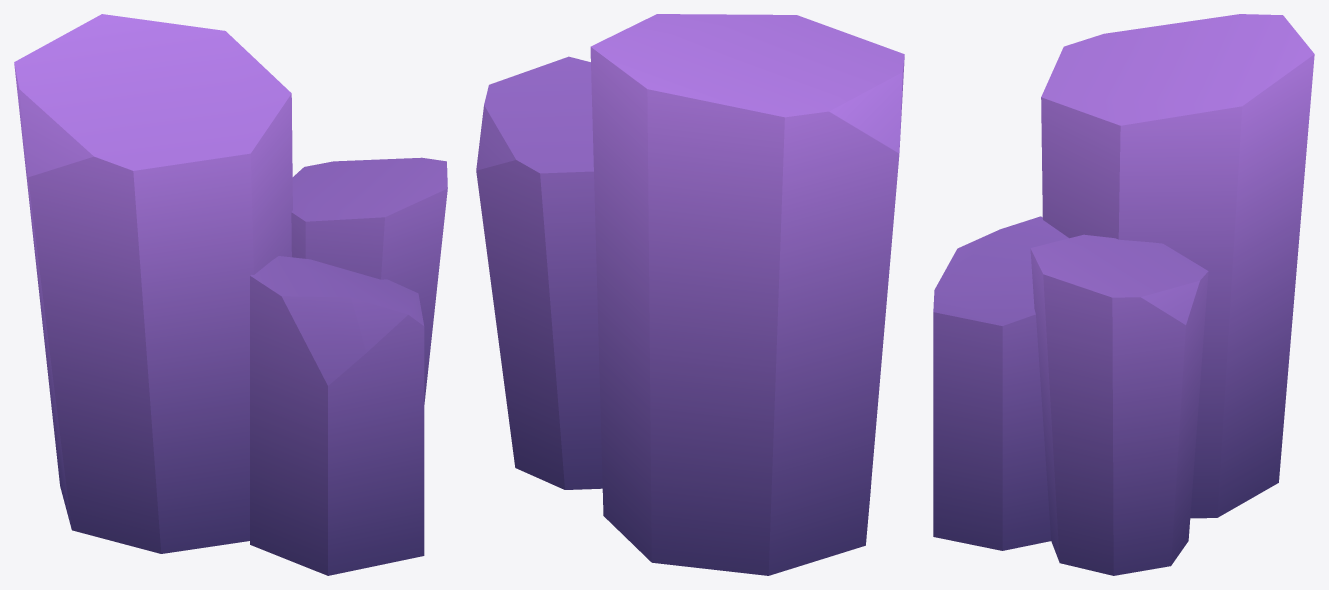
File: Crystal_P_3.glb
3 renders of one model, left to right at view 1: azimuth 30°, elevation 25°; view 2: azimuth 150°, elevation 25°; view 3: azimuth 270°, elevation 25°, orthographic. The views are drawn at different scales.
Parts seen in each view (by area): view 1: crystal_3; view 2: crystal_3; view 3: crystal_3.
Part boxes in pixels (<box>): crystal_3: <box>14,14,447,575</box>; crystal_3: <box>476,14,904,575</box>; crystal_3: <box>933,14,1314,575</box>.
Bounding box in the file's own units: 0.9448 × 1 × 0.8193.
1 material, 1 textured.
